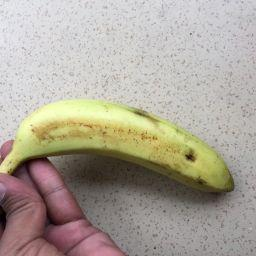banana: (0, 96, 237, 197)
